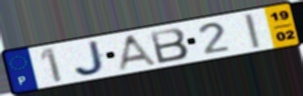1: (39, 45, 65, 84)
2: (197, 21, 233, 56)
A: (115, 33, 160, 73)
B: (147, 26, 191, 65)
I: (242, 12, 263, 50)
J: (72, 38, 109, 77)
